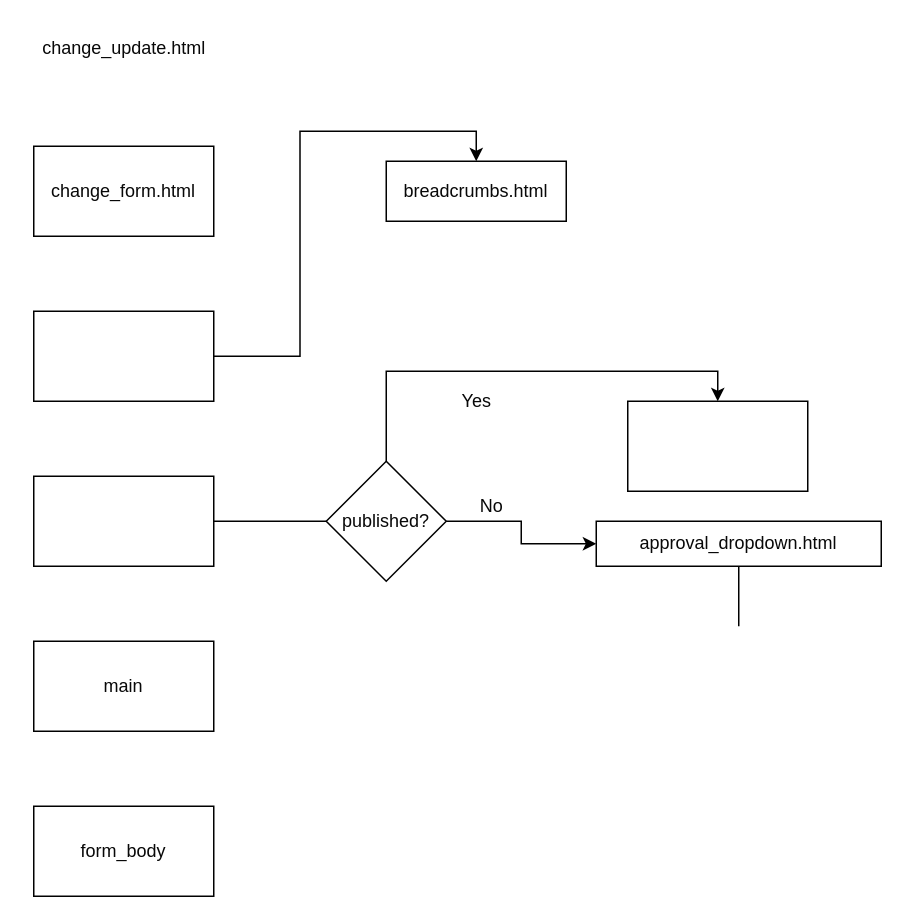
This 908x923 diagram has some shape labels left out. Each missing label, with the centre of its shape:
actions: point (123, 520)
header: point (123, 355)
url: published_detail: point (717, 445)
